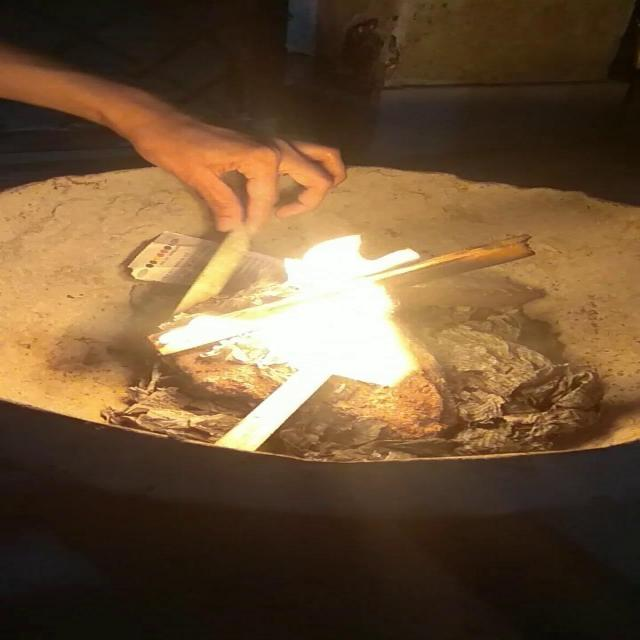fire: (145, 243, 447, 400)
